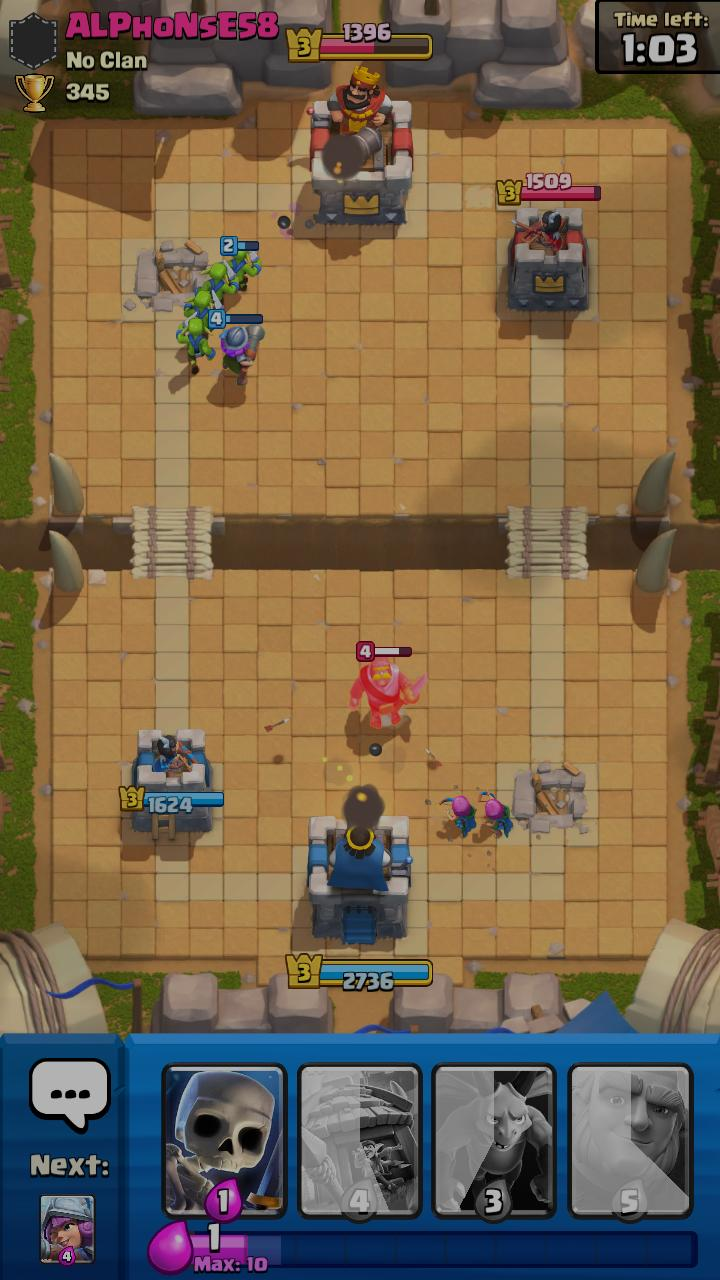ally: (208, 309, 265, 386), (176, 312, 216, 374), (220, 236, 262, 291), (194, 260, 239, 309), (184, 290, 224, 339), (478, 789, 513, 839), (439, 796, 477, 838)
enemy: (349, 641, 427, 729)
